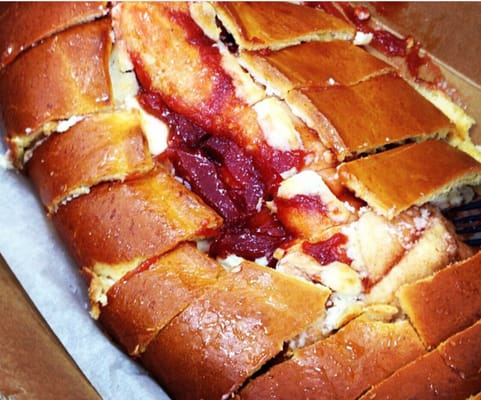sandwich: (3, 1, 481, 393)
